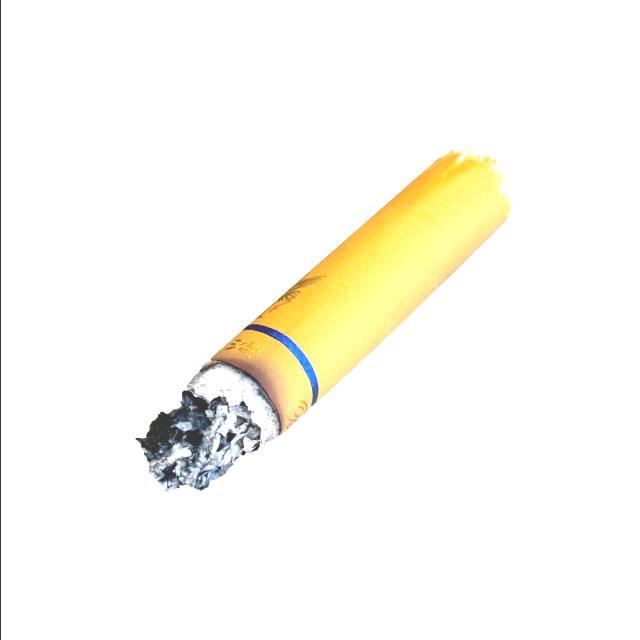cigarette: (128, 138, 540, 506)
